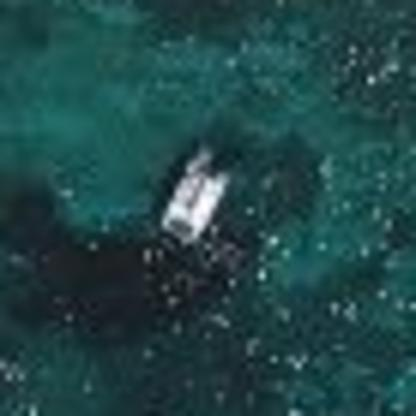ship: (153, 132, 239, 258)
